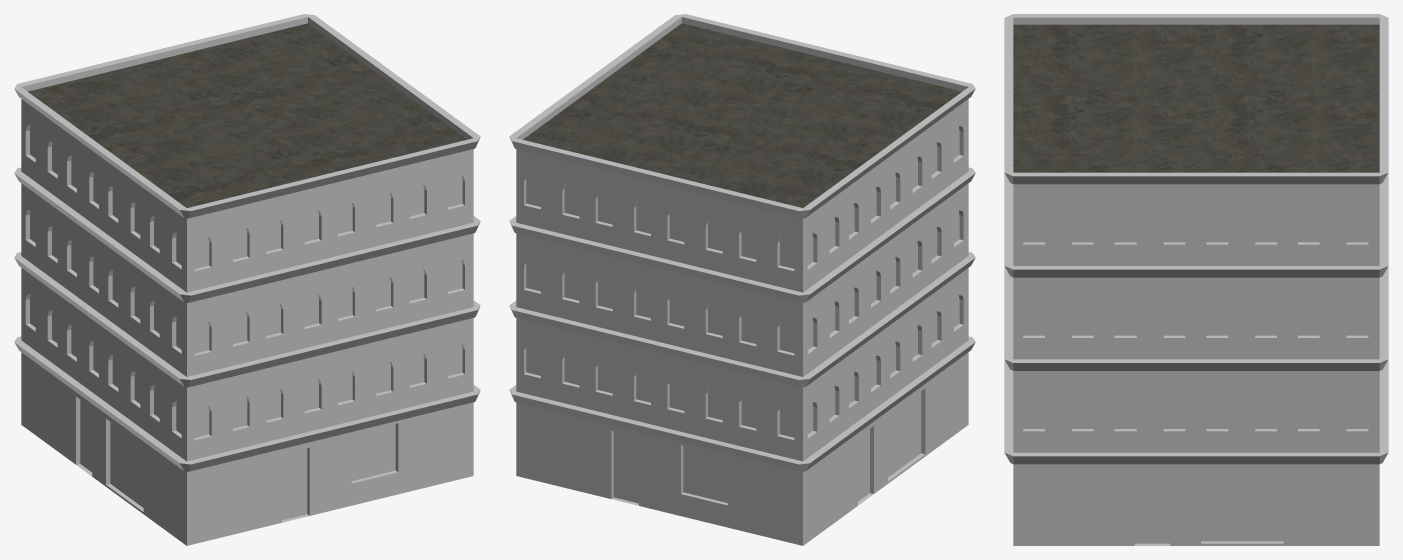
Rendered from DT_Building_Type_11_11.fbx.
The picture shows the model from 3 angles, left to right: view 1: azimuth 30°, elevation 25°; view 2: azimuth 150°, elevation 25°; view 3: azimuth 270°, elevation 25°; orthographic projection. The views are drawn at different scales.
Visible parts, largest first — view 1: DT_Building_Type_11_11; view 2: DT_Building_Type_11_11; view 3: DT_Building_Type_11_11.
Boxes of the visible parts, box(x1,y1,x2,y2) form: DT_Building_Type_11_11: box(14, 14, 480, 545); DT_Building_Type_11_11: box(509, 14, 975, 545); DT_Building_Type_11_11: box(1004, 14, 1388, 545).
Bounding box in the file's own units: 1074 × 1152 × 1074.
